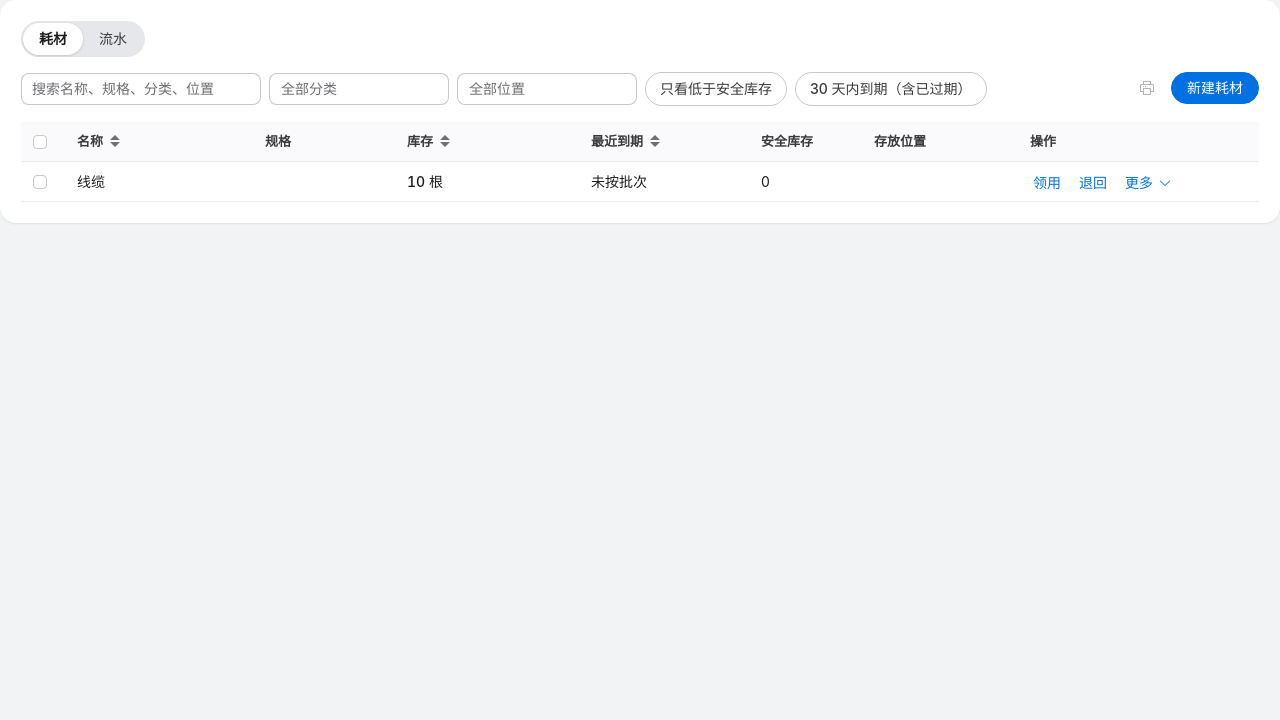
sends the displayed ledger version and reloads without retrying a stale stocktake
Click the button "更多": (1148, 183) [1122, 173, 1175, 193]
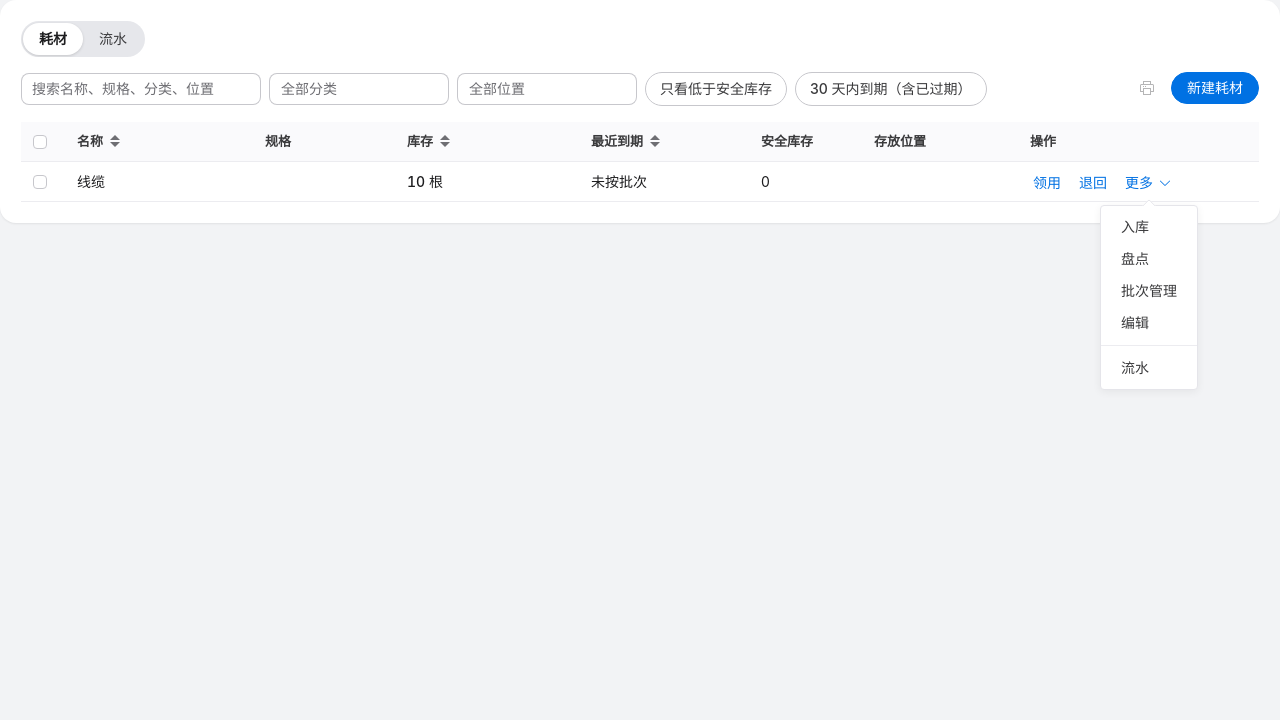
Click the menu item "盘点": (1135, 258) [1121, 250, 1149, 267]
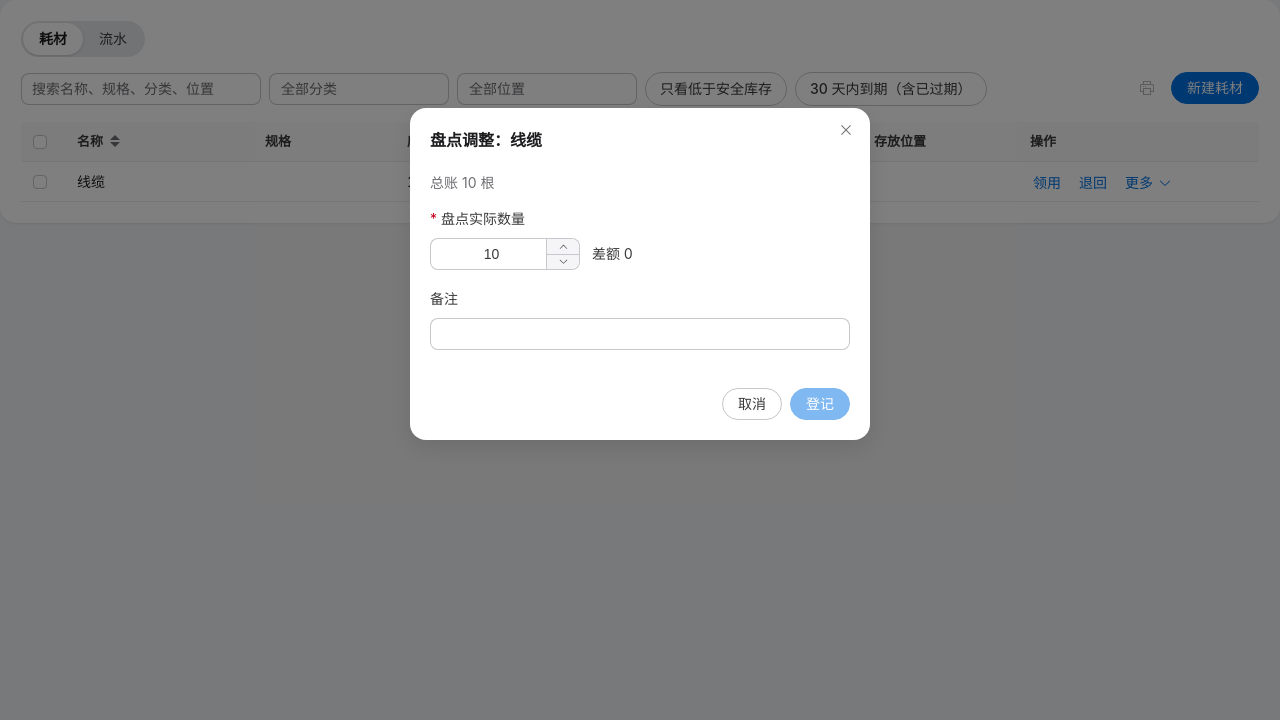
Replace the text in the number field labelled "盘点实际数量" with "8": (492, 254) [445, 239, 538, 269]
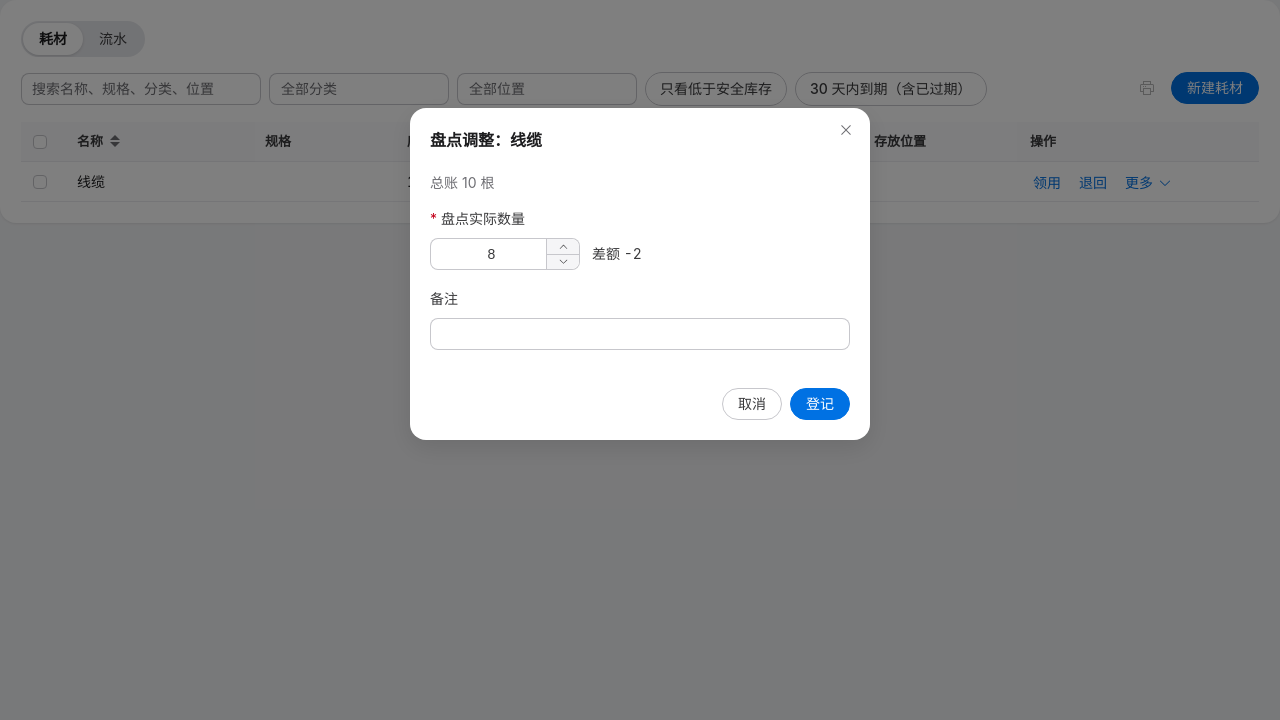
Now the button "登记" is enabled
Click the button "登记": (820, 404) [790, 388, 850, 420]
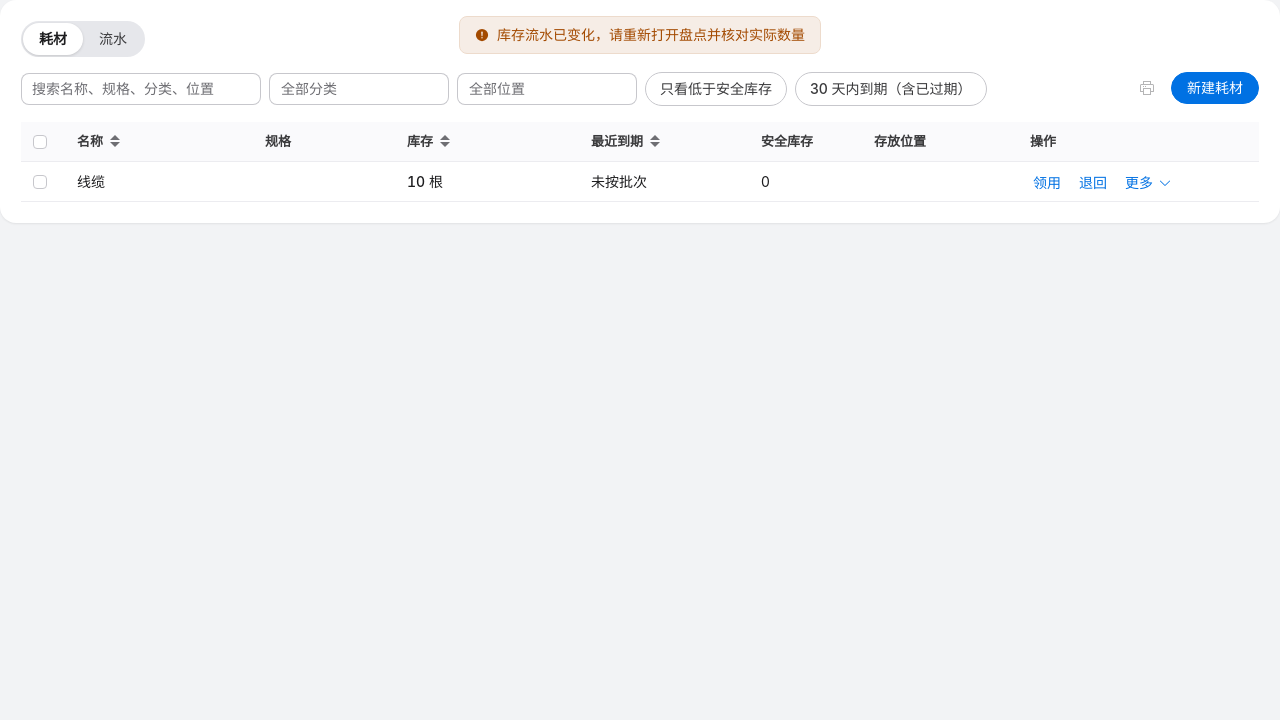
Now the text "请重新打开盘点并核对实际数量" is shown, box [497, 26, 805, 43]
